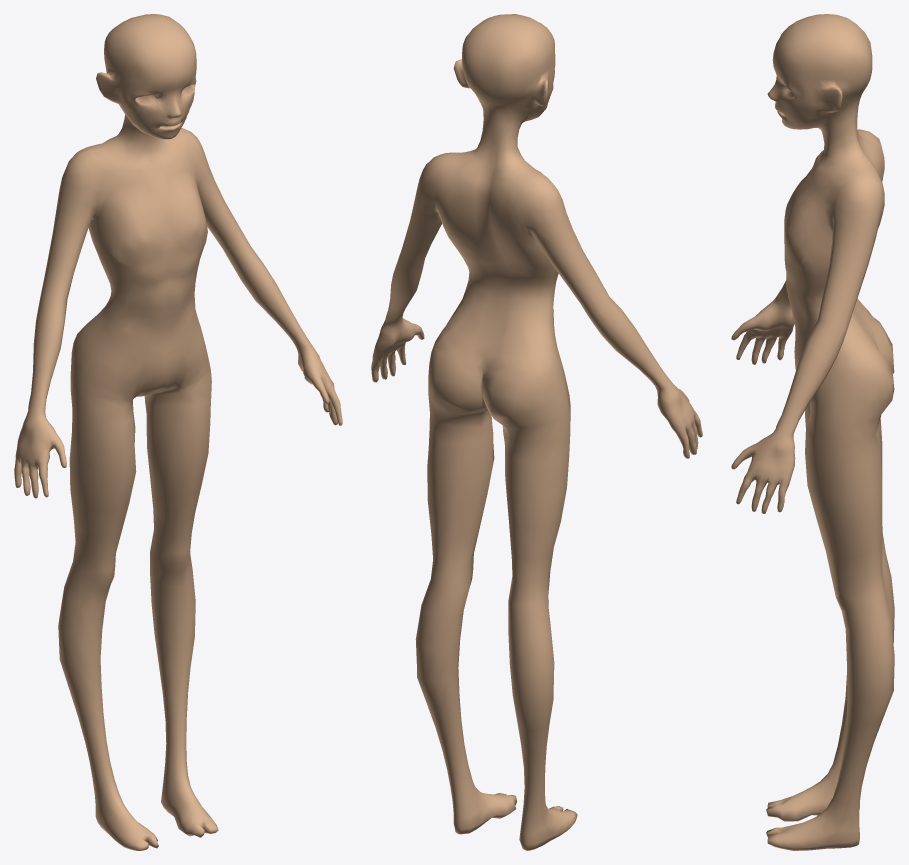
File: humanoid.glb
The picture shows the model from 3 angles, left to right: view 1: azimuth 30°, elevation 25°; view 2: azimuth 150°, elevation 25°; view 3: azimuth 270°, elevation 25°; orthographic projection.
Visible parts, largest first — view 1: body; view 2: body; view 3: body.
Boxes of the visible parts, bbox=[...] form: body: bbox=[14, 14, 342, 850]; body: bbox=[371, 14, 702, 850]; body: bbox=[731, 14, 894, 850].
Size of the model in its own units: 0.7182 by 1.76 by 0.3211.
